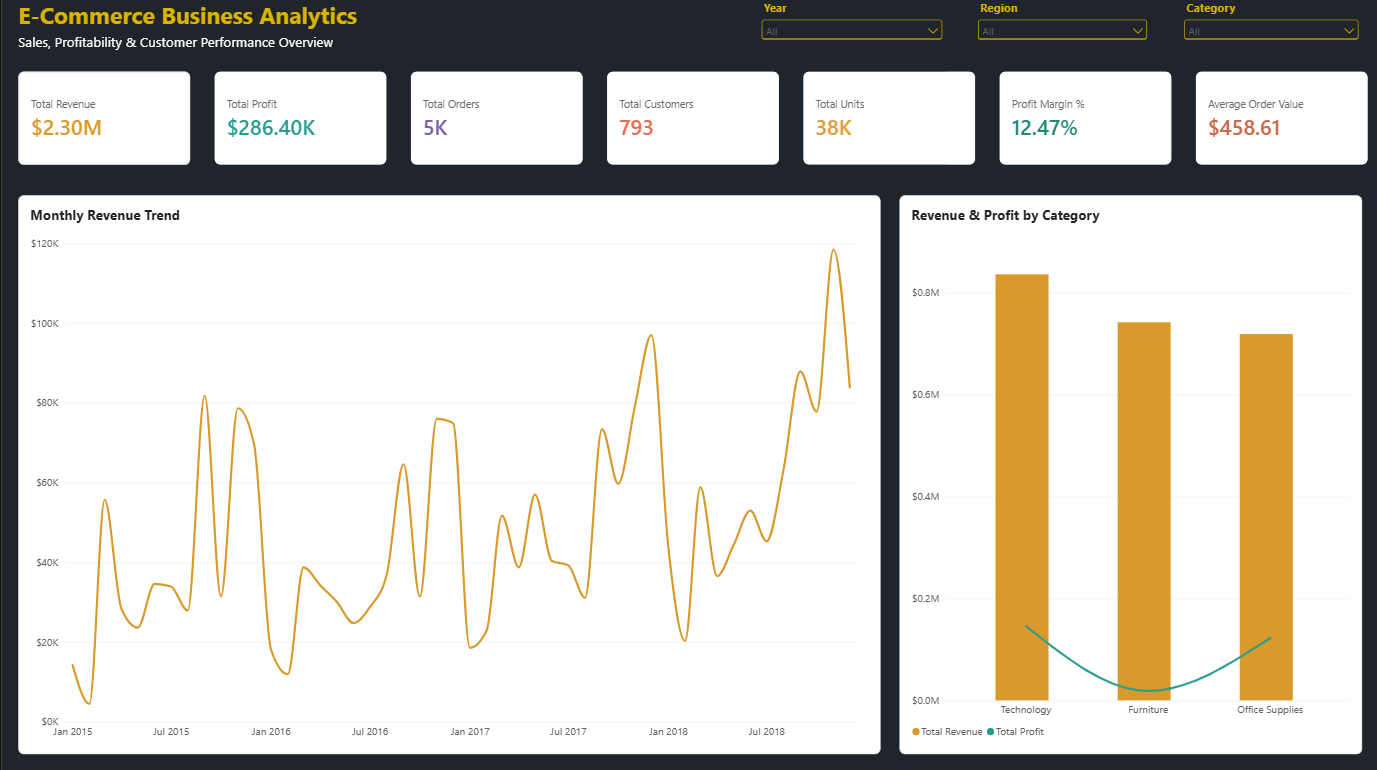

Layout of this report page (visuals, bound fields, positions):
{"tool":"powerbi","page":{"name":"Executive  Overview","canvas":[1920,1080],"ordinal":0},"visuals":[{"type":"textbox","box":[22.7,0,491.9,47.1],"z":0},{"type":"textbox","box":[22.7,47.1,491.9,29.7],"z":1000},{"type":"cardVisual","fields":{"Data":["Sales.Total Revenue"]},"box":[22.7,101.2,240,130],"z":2000},{"type":"cardVisual","fields":{"Data":["Sales.Total Profit"]},"box":[296.5,101.2,240,130],"z":3000},{"type":"cardVisual","fields":{"Data":["Sales.Total Orders"]},"box":[570.4,101.2,240,130],"z":4000},{"type":"cardVisual","fields":{"Data":["Sales.Total Customers"]},"box":[844.2,101.2,240,130],"z":5000},{"type":"cardVisual","fields":{"Data":["Sales.Total Units"]},"box":[1118,101.2,240,130],"z":6000},{"type":"cardVisual","fields":{"Data":["Sales.Profit Margin %"]},"box":[1391.9,101.2,240,130],"z":7000},{"type":"cardVisual","fields":{"Data":["Sales.Average Order Value"]},"box":[1665.7,101.2,240,130],"z":8000},{"type":"lineChart","title":"Monthly Revenue Trend","fields":{"Y":["Sales.Total Revenue"],"Category":["Sales.Order Date.Variation.Date Hierarchy.Year","Sales.Order Date.Variation.Date Hierarchy.Quarter","Sales.Order Date.Variation.Date Hierarchy.Month"]},"box":[22.7,273.8,1203.5,779.7],"z":9000},{"type":"lineClusteredColumnComboChart","title":"Revenue & Profit by Category","fields":{"Category":["Sales.Category"],"Y":["Sales.Total Revenue"],"Y2":["Sales.Total Profit"]},"box":[1252.3,273.8,645.4,779.7],"z":10000},{"type":"slicer","fields":{"Values":["Sales.Order Date.Variation.Date Hierarchy.Year"]},"box":[1055.2,0,261.6,76.7],"z":11000},{"type":"slicer","fields":{"Values":["Sales.Region"]},"box":[1357.9,0,245.9,76.7],"z":12000},{"type":"slicer","fields":{"Values":["Sales.Category"]},"box":[1644.8,0,252.9,76.7],"z":13000}]}

Visuals, with their boxes in screenshot pixels (x1, y1, x2, y2), scaled from the page's 1920x1080 canvas onto the 1377x770 screenshot:
textbox: detection(16, 0, 369, 34)
textbox: detection(16, 34, 369, 55)
cardVisual - Sales.Total Revenue: detection(16, 72, 188, 165)
cardVisual - Sales.Total Profit: detection(213, 72, 385, 165)
cardVisual - Sales.Total Orders: detection(409, 72, 581, 165)
cardVisual - Sales.Total Customers: detection(605, 72, 778, 165)
cardVisual - Sales.Total Units: detection(802, 72, 974, 165)
cardVisual - Sales.Profit Margin %: detection(998, 72, 1170, 165)
cardVisual - Sales.Average Order Value: detection(1195, 72, 1367, 165)
"Monthly Revenue Trend" lineChart: detection(16, 195, 879, 751)
"Revenue & Profit by Category" lineClusteredColumnComboChart: detection(898, 195, 1361, 751)
slicer - Sales.Order Date.Variation.Date Hierarchy.Year: detection(757, 0, 944, 55)
slicer - Sales.Region: detection(974, 0, 1150, 55)
slicer - Sales.Category: detection(1180, 0, 1361, 55)
